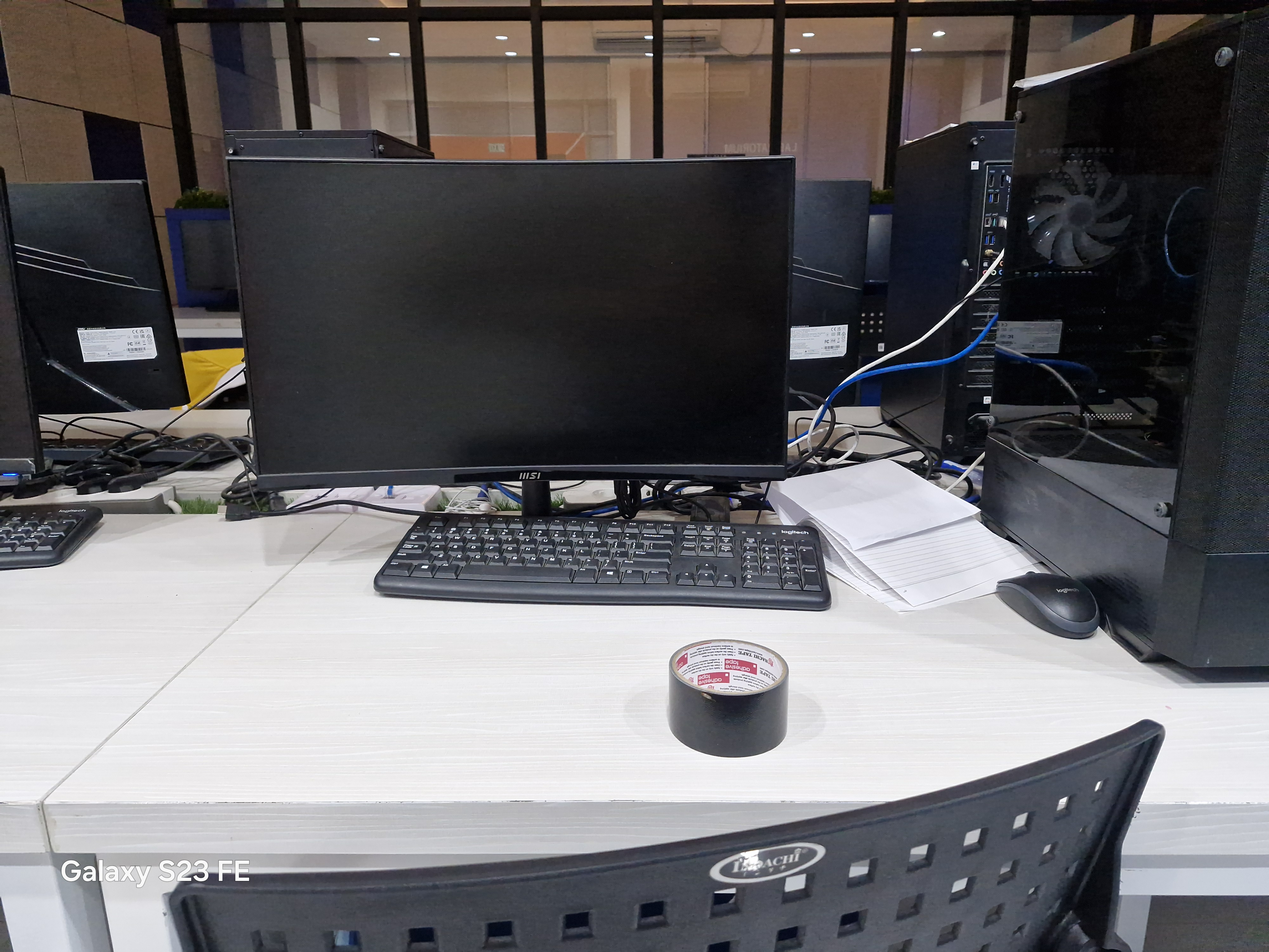chair: (169, 720, 1163, 951)
keyboard: (374, 513, 830, 609), (0, 505, 102, 569)
mouse: (996, 572, 1100, 638)
paper: (768, 460, 1041, 612)
table-merged: (0, 495, 1268, 951)
tv: (228, 157, 793, 490), (0, 181, 186, 476)
window-other: (127, 0, 1003, 171)
